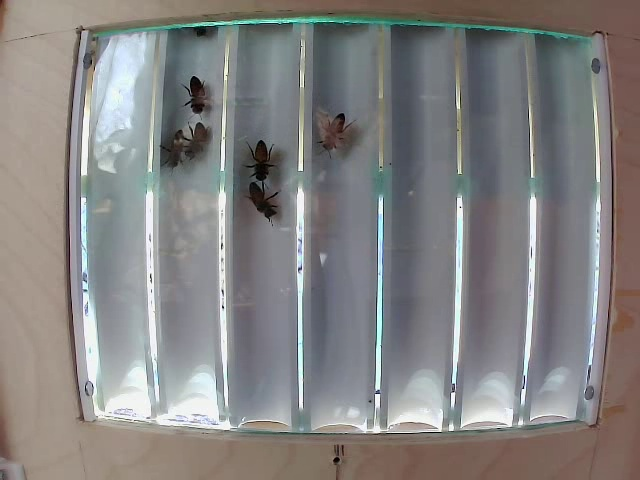bee: (244, 180, 282, 226), (250, 140, 285, 180), (185, 119, 215, 163), (190, 71, 216, 117), (320, 111, 351, 149), (163, 130, 183, 179)
